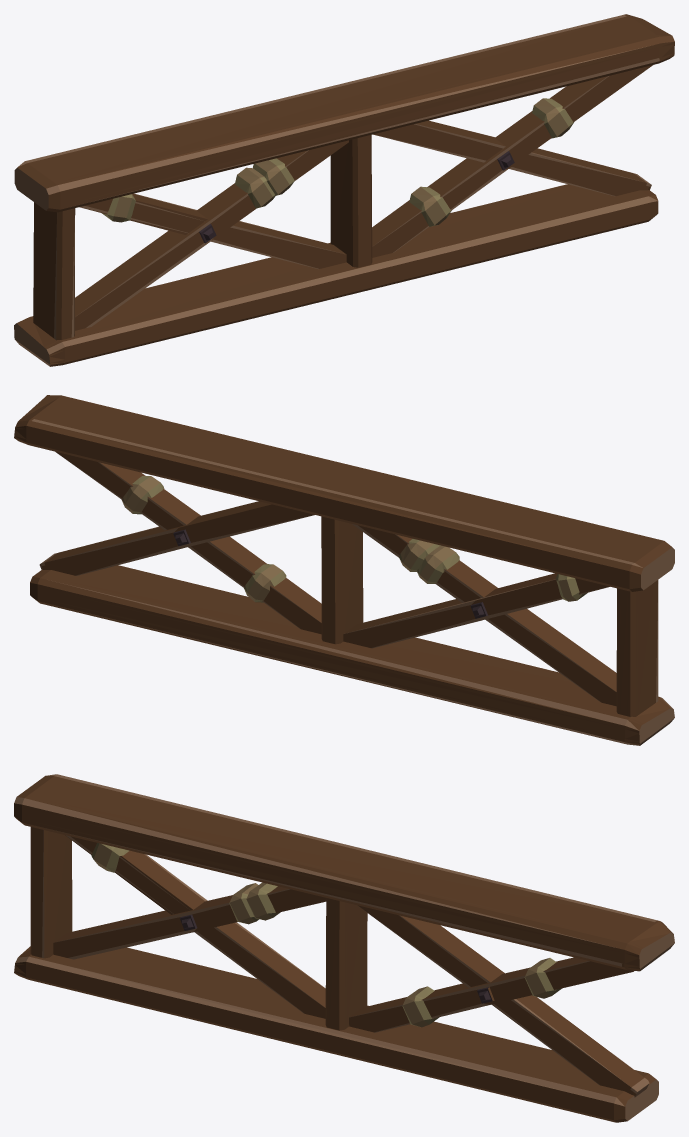
Rendered from MCastle_FenceWood_01.FBX.
3 views of the same model, one above another, from view 1: azimuth 30°, elevation 25°; view 2: azimuth 150°, elevation 25°; view 3: azimuth 330°, elevation 25° (orthographic).
Parts seen in each view (by area): view 1: MCastle_FenceWood_01_LOD0; view 2: MCastle_FenceWood_01_LOD0; view 3: MCastle_FenceWood_01_LOD0.
Part boxes in pixels (<box>): MCastle_FenceWood_01_LOD0: <box>14,14,674,366</box>; MCastle_FenceWood_01_LOD0: <box>14,395,674,745</box>; MCastle_FenceWood_01_LOD0: <box>14,774,674,1122</box>.
Size of what is drawn, in the model's own units: 4.25 by 1.18 by 0.4688.
